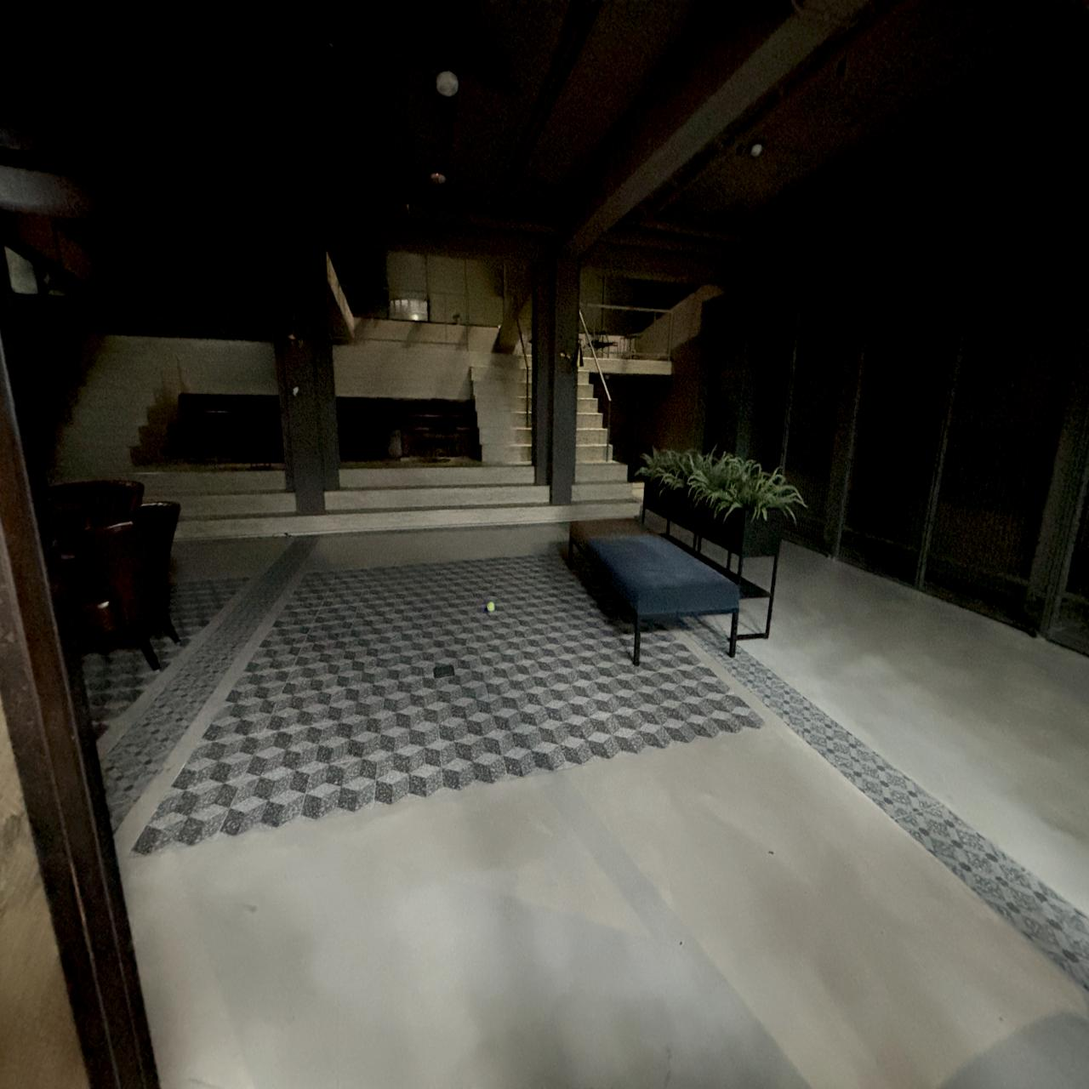tennisball: (487, 601, 495, 612)
